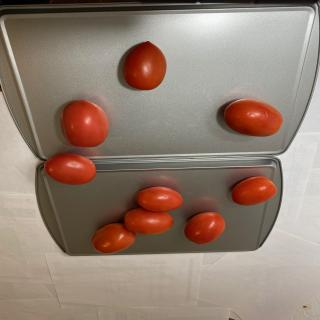Tomato: (60, 100, 109, 148), (223, 98, 283, 137), (122, 41, 166, 90), (44, 153, 96, 185), (124, 207, 174, 235), (91, 223, 136, 254), (184, 212, 226, 245), (231, 176, 277, 206), (137, 186, 184, 212)
